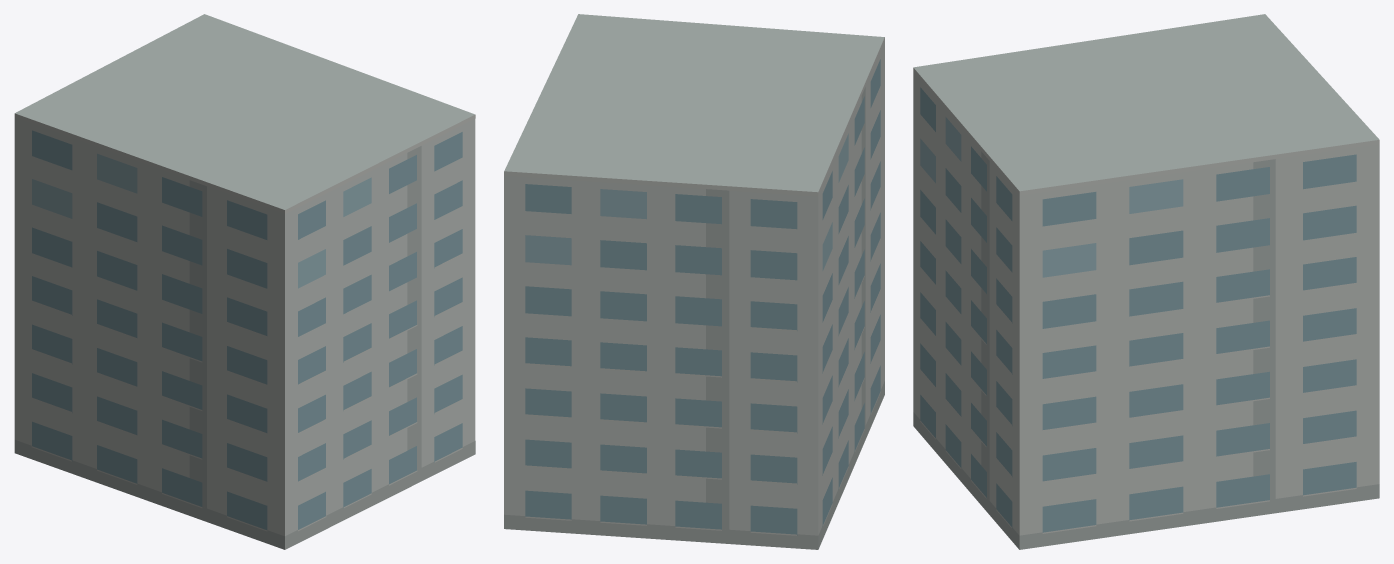
File: survey-upis-33041981.glb
3 views of the same model, side by side, from view 1: azimuth 30°, elevation 25°; view 2: azimuth 150°, elevation 25°; view 3: azimuth 270°, elevation 25° (orthographic). The views are drawn at different scales.
Visible parts, largest first — view 1: survey-upis-33041981.tmp; view 2: survey-upis-33041981.tmp; view 3: survey-upis-33041981.tmp.
Boxes of the visible parts, <box> form: survey-upis-33041981.tmp: <box>14,14,475,549</box>; survey-upis-33041981.tmp: <box>504,14,884,549</box>; survey-upis-33041981.tmp: <box>913,14,1379,549</box>.
Size of the model in its own units: 21.22 by 20 by 23.59.
